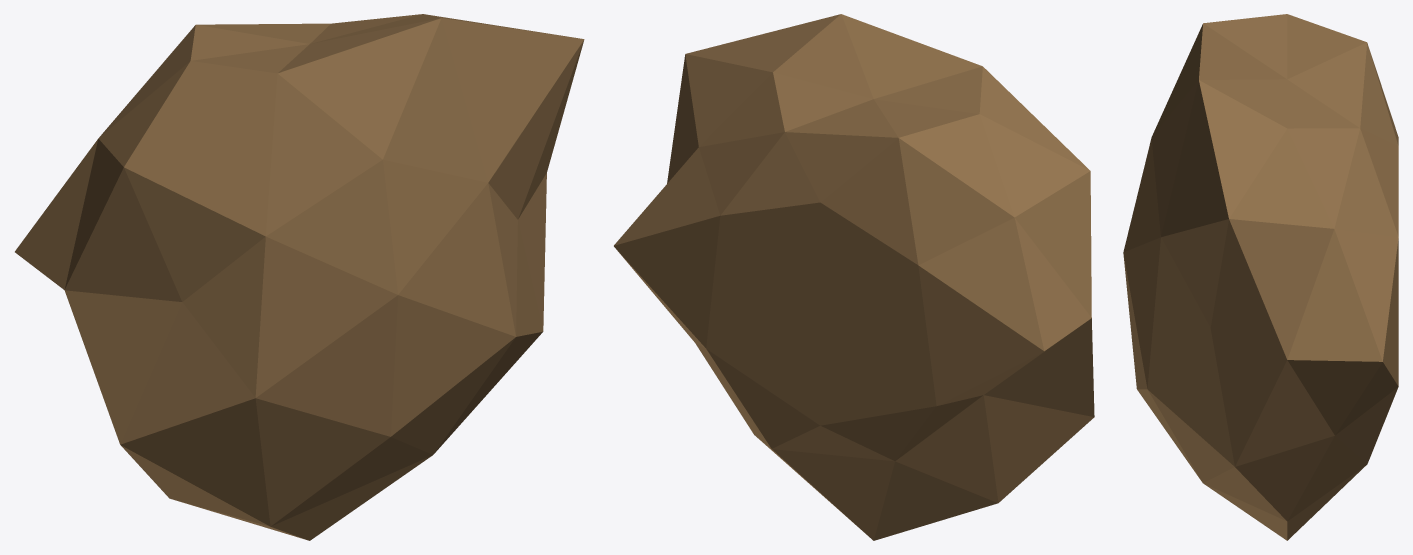
The model's file is rock_a.glb.
The picture shows the model from 3 angles, left to right: view 1: azimuth 30°, elevation 25°; view 2: azimuth 150°, elevation 25°; view 3: azimuth 270°, elevation 25°; orthographic projection. The views are drawn at different scales.
Visible parts, largest first — view 1: RockAMesh; view 2: RockAMesh; view 3: RockAMesh.
Part boxes in pixels (x1,y1,x2,y2): RockAMesh: (15,14,584,540); RockAMesh: (614,14,1094,540); RockAMesh: (1123,14,1398,540).
Bounding box in the file's own units: 1.9 × 2 × 1.
